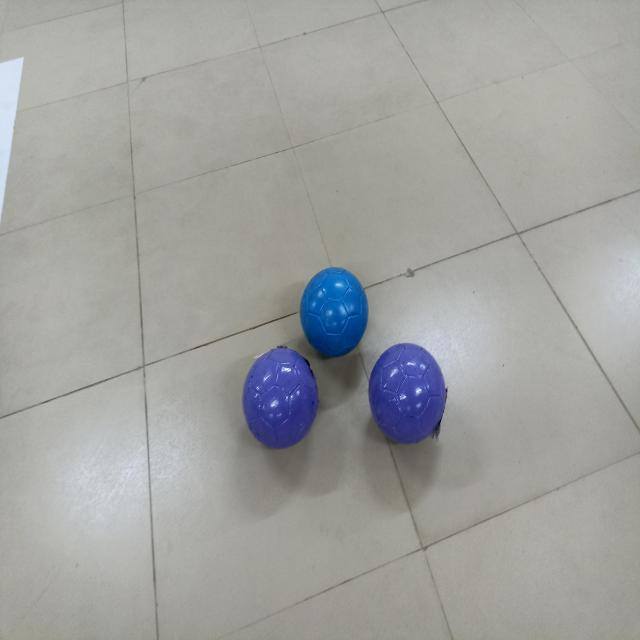blue_ball: (298, 251, 370, 364)
purple_ball: (234, 340, 328, 452), (359, 339, 460, 441)
